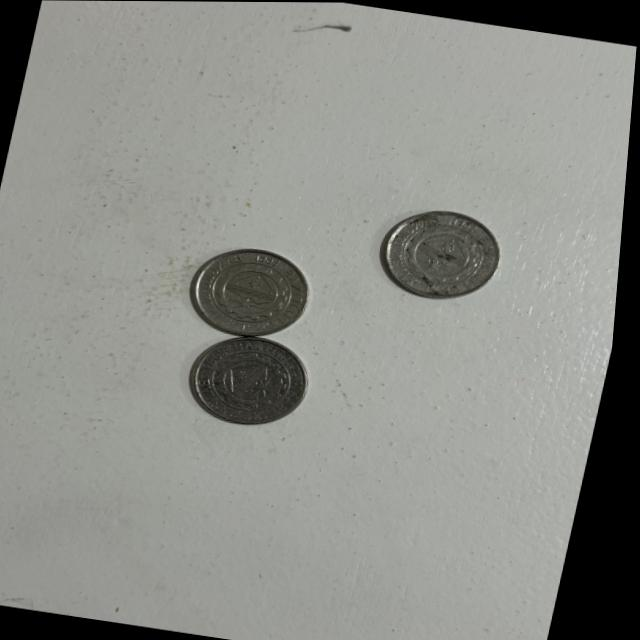1_Old_Back: (211, 255, 308, 329), (209, 342, 305, 414), (402, 219, 495, 288)
